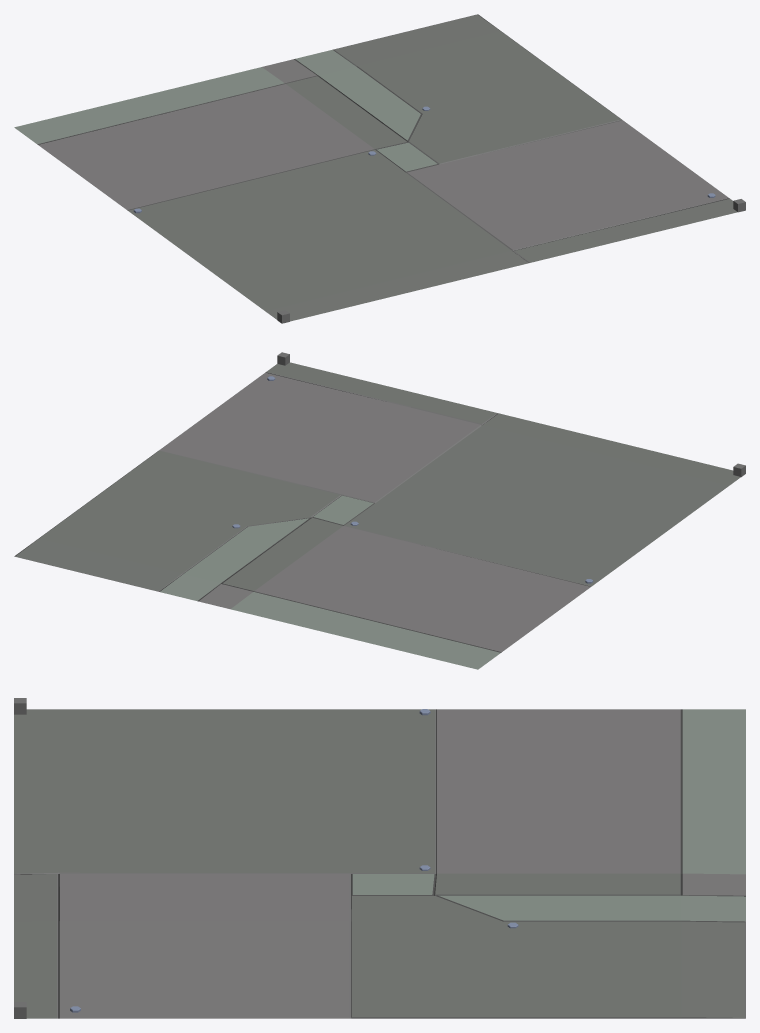
Rendered from EmptyFork_A.gltf.
3 views of the same model, one above another, from view 1: azimuth 30°, elevation 25°; view 2: azimuth 150°, elevation 25°; view 3: azimuth 270°, elevation 25° (orthographic). The views are drawn at different scales.
Parts seen in each view (by area): view 1: Scifi_Panel_04_Plaza014_group4.011_Scifi_Panel_04_Plaza014_.; view 2: Scifi_Panel_04_Plaza014_group4.011_Scifi_Panel_04_Plaza014_.; view 3: Scifi_Panel_04_Plaza014_group4.011_Scifi_Panel_04_Plaza014_..
Boxes of the visible parts, box(x1,y1,x2,y2) form: Scifi_Panel_04_Plaza014_group4.011_Scifi_Panel_04_Plaza014_.: box(14, 14, 745, 323); Scifi_Panel_04_Plaza014_group4.011_Scifi_Panel_04_Plaza014_.: box(14, 352, 745, 669); Scifi_Panel_04_Plaza014_group4.011_Scifi_Panel_04_Plaza014_.: box(14, 698, 745, 1018).
Size of the model in its own units: 10 by 0.1734 by 10.
Materials: 1 (1 with a texture image).
